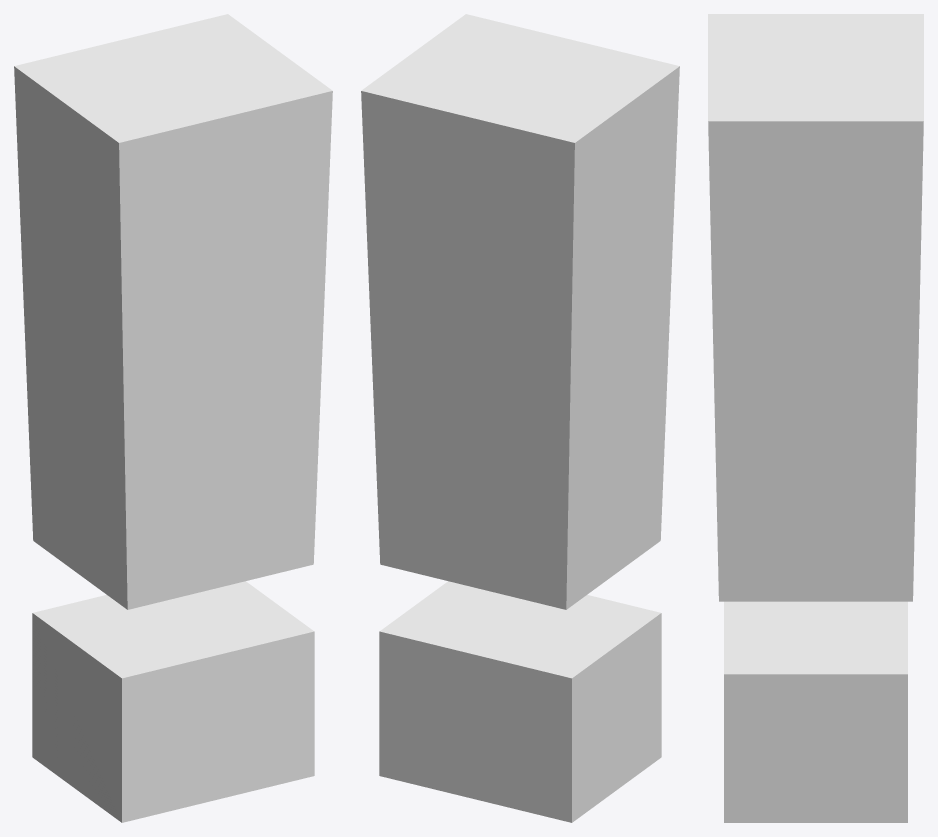
The model's file is UIExclamation.fbx.
The picture shows the model from 3 angles, left to right: view 1: azimuth 30°, elevation 25°; view 2: azimuth 150°, elevation 25°; view 3: azimuth 270°, elevation 25°; orthographic projection. The views are drawn at different scales.
Visible parts, largest first — view 1: Exclamation; view 2: Exclamation; view 3: Exclamation.
Boxes of the visible parts, <box> form: Exclamation: <box>14,14,332,822</box>; Exclamation: <box>361,14,679,822</box>; Exclamation: <box>708,14,923,822</box>.
Size of the model in its own units: 17.75 by 54.58 by 15.09.
